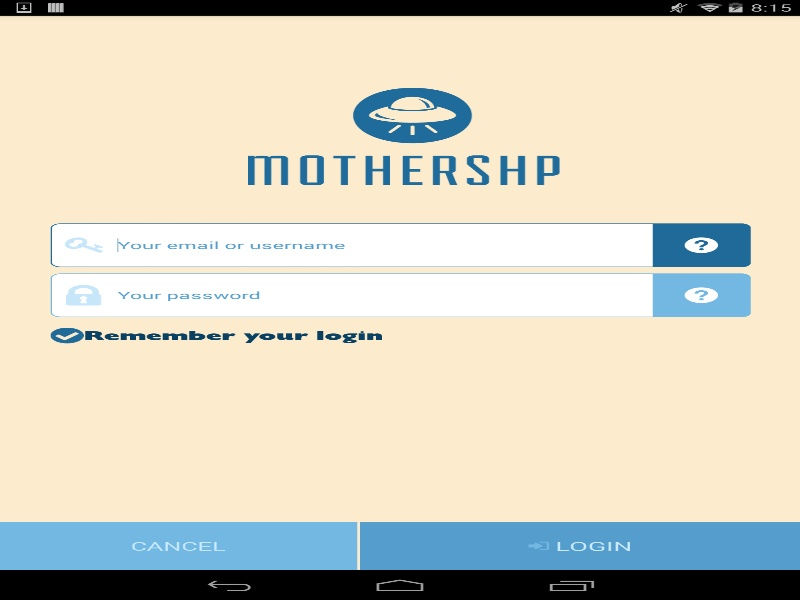Input: (117, 223, 586, 267), (117, 273, 586, 317)
